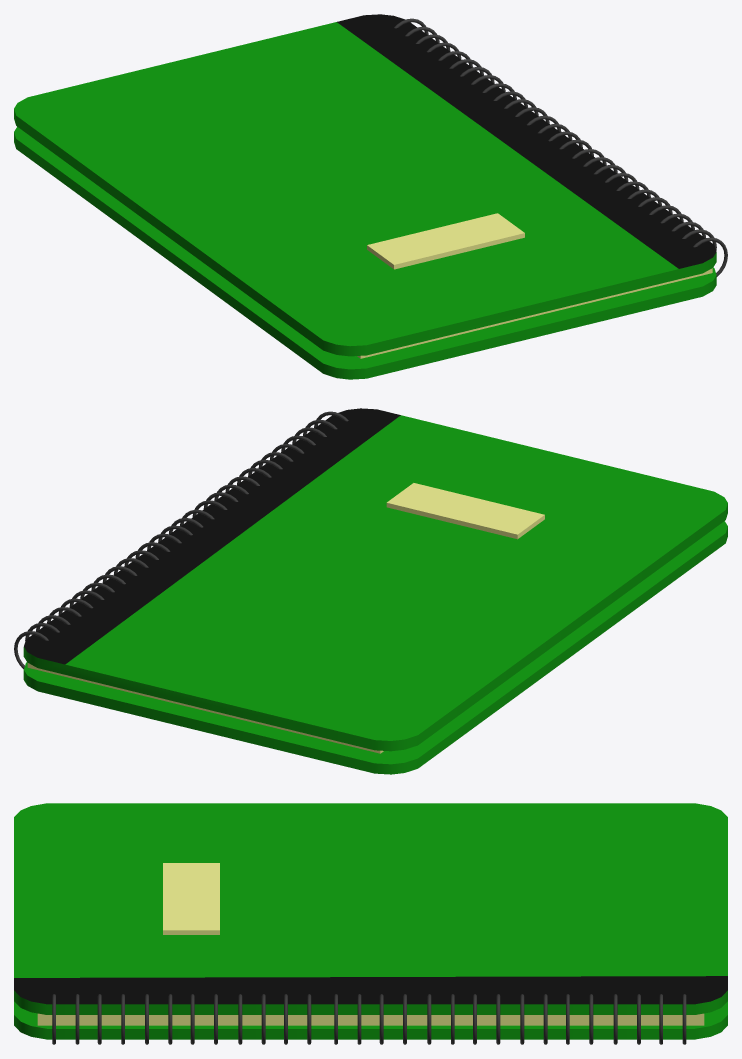
The model's file is ReferenceMaterialGreen(Art).FBX.
3 views of the same model, one above another, from view 1: azimuth 30°, elevation 25°; view 2: azimuth 150°, elevation 25°; view 3: azimuth 270°, elevation 25° (orthographic). The views are drawn at different scales.
Parts seen in each view (by area): view 1: ReferenceMaterial; view 2: ReferenceMaterial; view 3: ReferenceMaterial.
Boxes of the visible parts, box(x1,y1,x2,y2) form: ReferenceMaterial: box(14, 14, 727, 379); ReferenceMaterial: box(14, 408, 727, 774); ReferenceMaterial: box(14, 803, 727, 1044).
Size of the model in its own units: 0.2085 by 0.0214 by 0.3.
